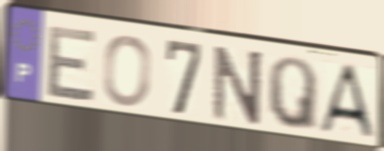7: (163, 37, 203, 117)
A: (316, 61, 378, 141)
E: (44, 24, 99, 104)
N: (211, 43, 265, 127)
O: (101, 33, 153, 109)
Q: (265, 54, 320, 135)
